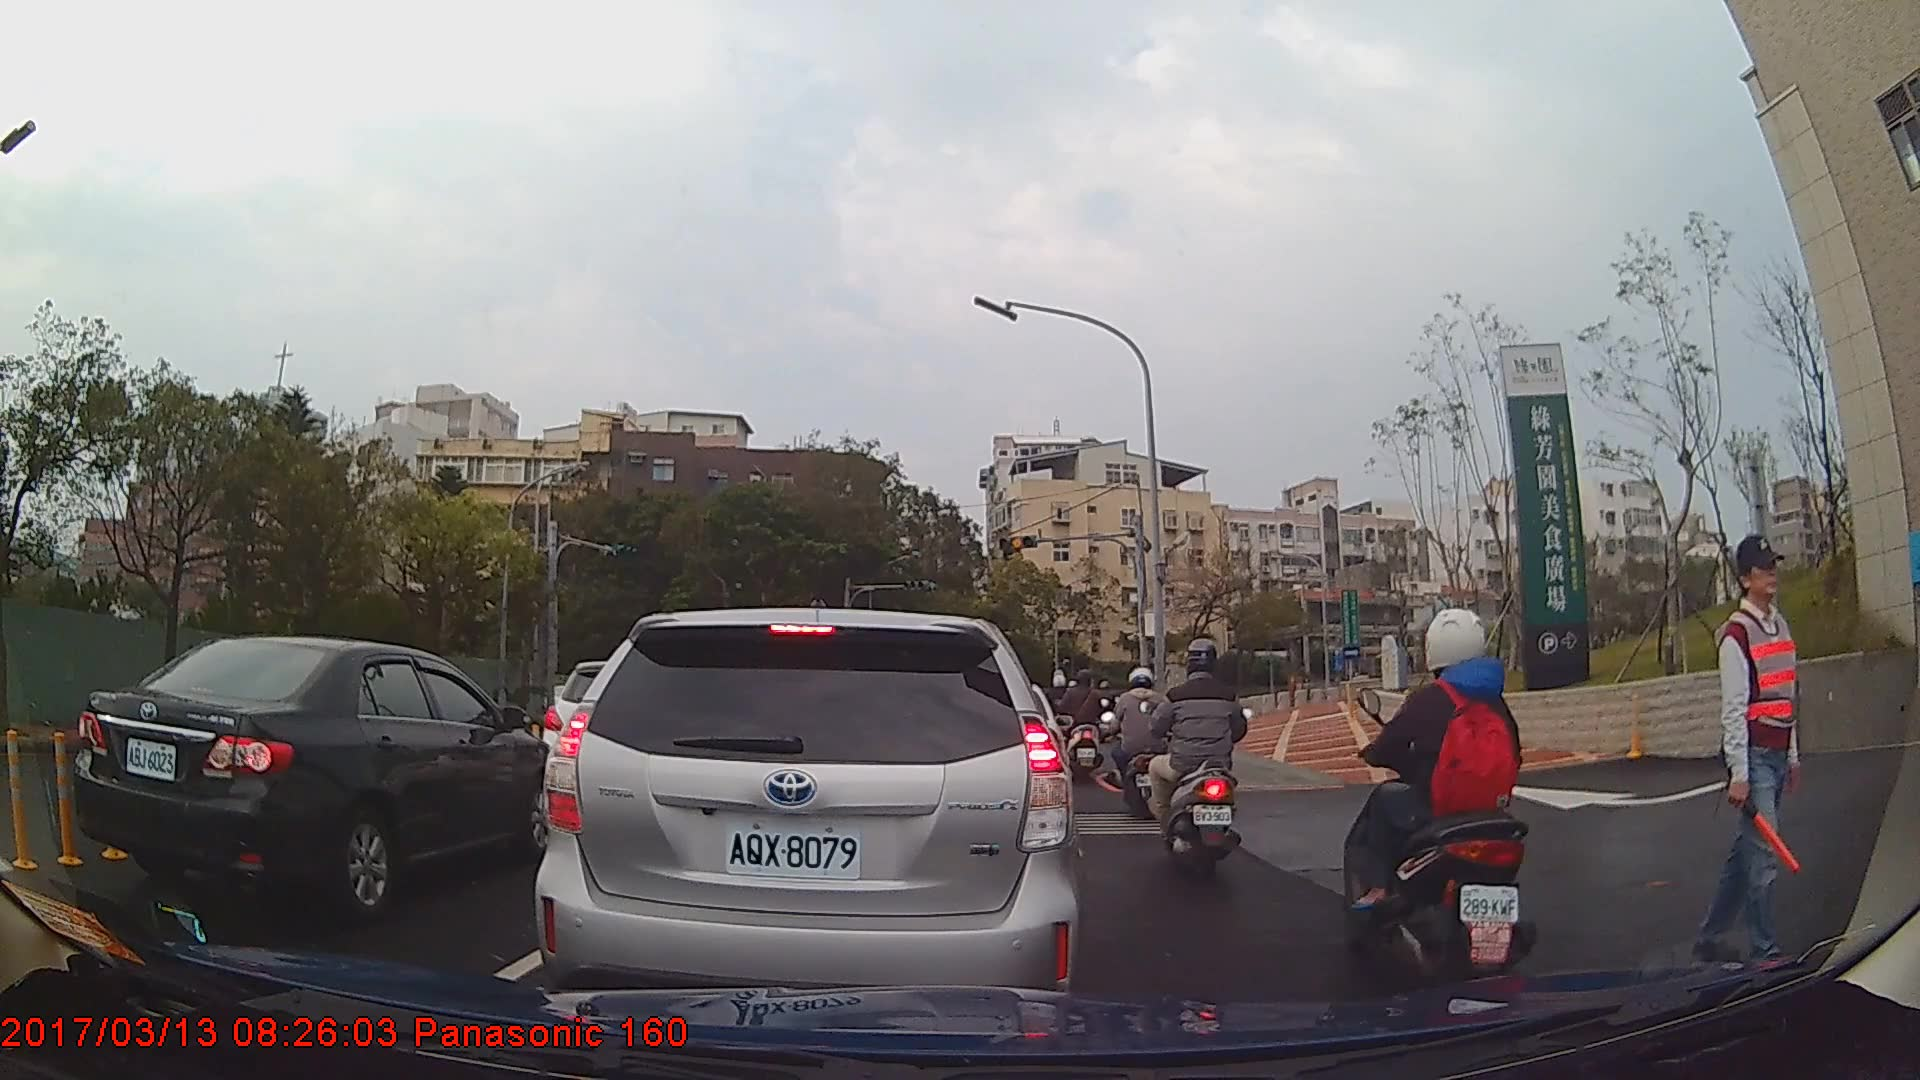pedestrian: (1698, 529, 1808, 969)
rider: (1342, 605, 1537, 1013), (1150, 636, 1258, 871), (1107, 666, 1172, 816), (1063, 667, 1109, 783)
vehicle: (534, 605, 1079, 1012), (71, 634, 564, 918)
